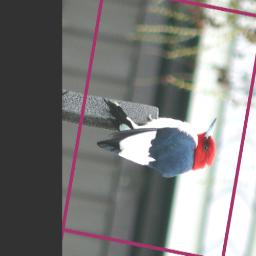Woodpecker: (89, 95, 226, 189)
